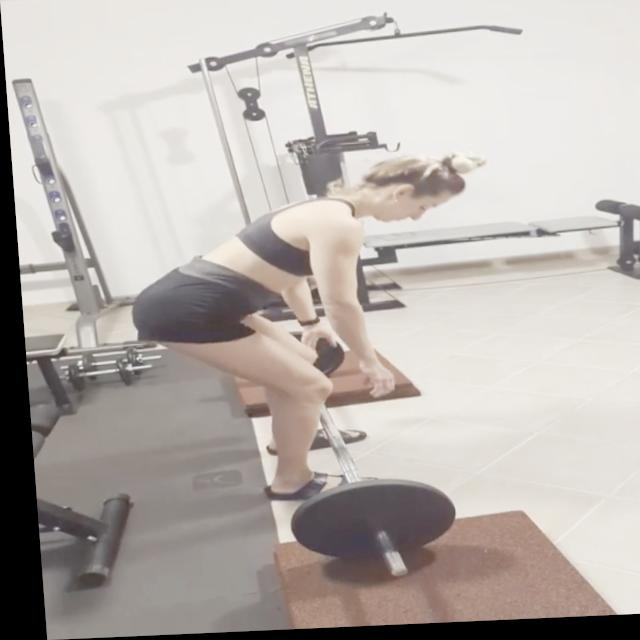barbell: (277, 476, 460, 590)
